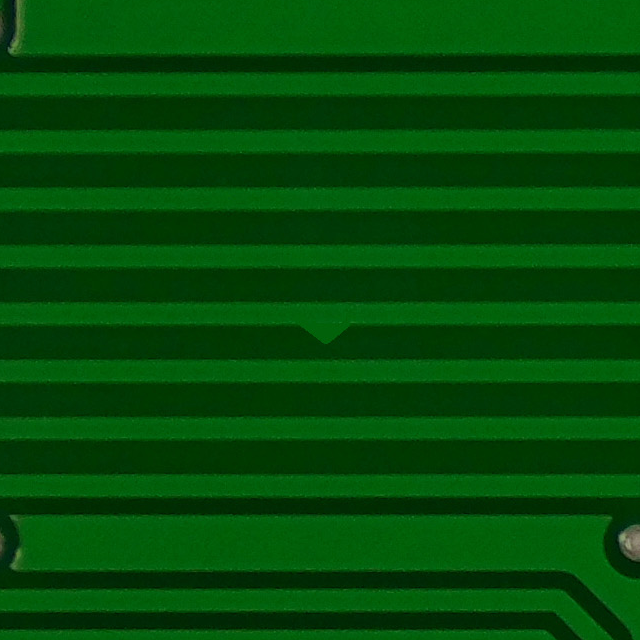spur: (267, 292, 374, 349)
